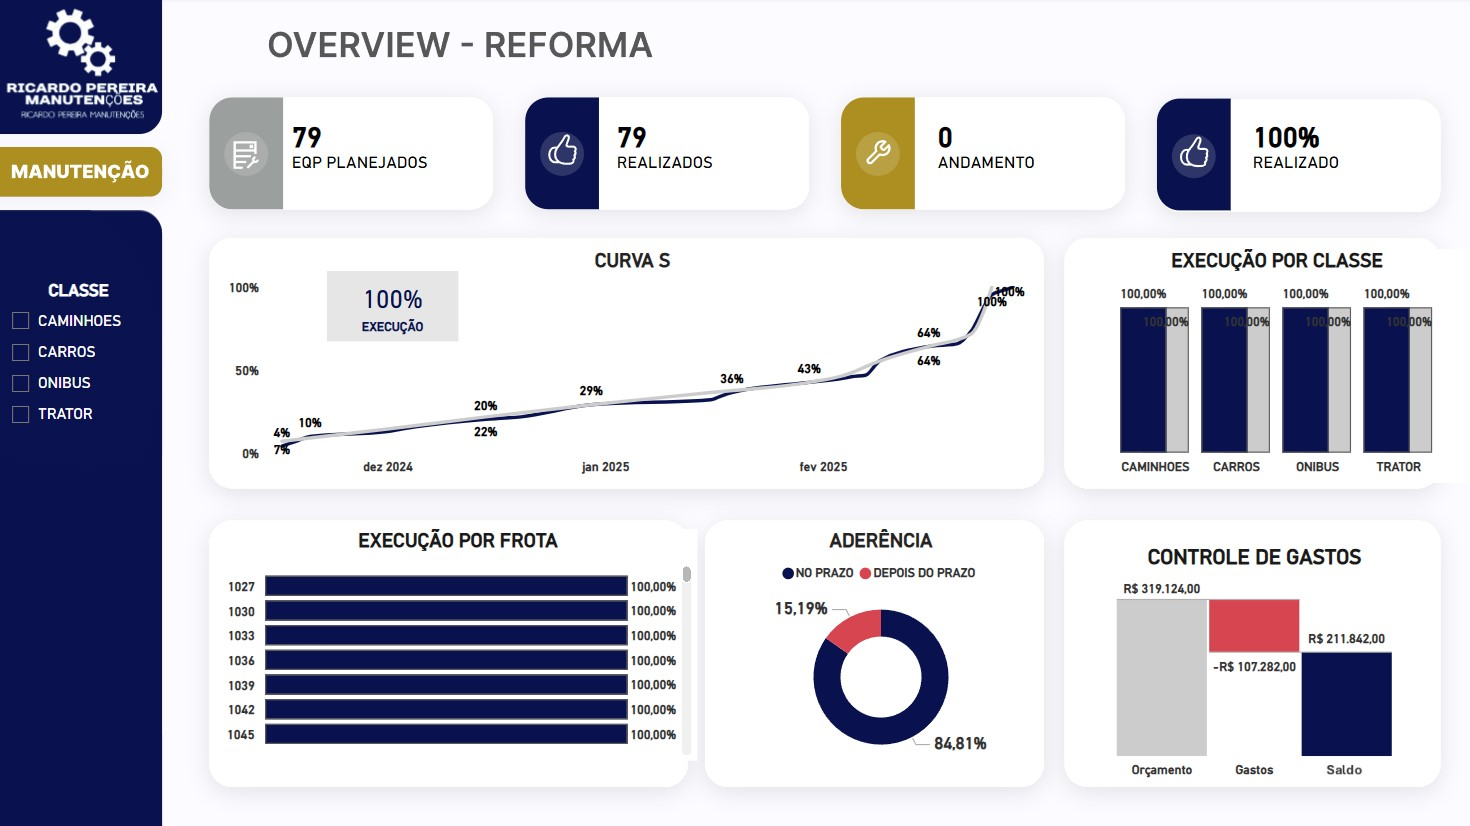

The dashboard page shown, as its layout file describes it:
{"tool":"powerbi","page":{"name":"GERAL - OVERVIEW","canvas":[1280,720],"ordinal":0},"visuals":[{"type":"lineChart","title":"CURVA S ","fields":{"Category":["dCalendario.Data.Variation.Hierarquia de datas.Ano"],"Y":["!Medidas.ACUMULADO_HH_EXECUTADO","!Medidas.ACUMULADO_PESO"]},"box":[195.2,217.7,712.2,203],"z":0},{"type":"multiRowCard","fields":{"Values":["!Medidas.ANDAMENTO"]},"box":[811.1,102.4,171.8,60.7],"z":1000},{"type":"multiRowCard","fields":{"Values":["!Medidas.REALIZADOS"]},"box":[532.6,102.4,171.8,60.7],"z":2000},{"type":"multiRowCard","fields":{"Values":["!Medidas.QTD EQP"]},"box":[250.7,102.4,185.6,69.4],"z":3000},{"type":"multiRowCard","fields":{"Values":["!Medidas.% REALIZADO"]},"box":[1084.3,102.4,170,65.1],"z":4000},{"type":"waterfallChart","title":"CONTROLE DE GASTOS","fields":{"Category":["Tabela_Tipos.Tipo"],"Y":["!Medidas.Valor Dinâmico"]},"box":[934.3,473.6,313.2,209.9],"z":5000},{"type":"image","box":[1129.4,657.5,78.9,26],"z":6000},{"type":"card","fields":{"Values":["!Medidas.ACUMULADO_EXECUTADO_2"]},"box":[286.3,236.8,113.6,60.7],"z":7000},{"type":"donutChart","title":"ADERÊNCIA","fields":{"Y":["!Medidas.% ADERÊNCIA","!Medidas.% DEPOIS DO PRAZO"]},"box":[618.5,460.6,296.7,209.9],"z":8000},{"type":"clusteredBarChart","title":"EXECUÇÃO POR FROTA","fields":{"Category":["fControle.FROTA"],"Y":["fControle.ATUALIZAÇÃO","dData Planejada.PESO POR FROTA"]},"box":[193,461,395,210],"z":9000},{"type":"slicer","title":"CLASSE ","fields":{"Values":["fControle.CLASSE OPERACIONAL"]},"box":[0,245.1,141.4,157.1],"z":10000},{"type":"clusteredColumnChart","title":"EXECUÇÃO POR CLASSE","fields":{"Y":["!Medidas.ACUMULADO_EXECUTADO_2","!Medidas.ACUMULADO_PESO"],"Category":["fControle.CLASSE OPERACIONAL"]},"box":[921,217,339,203],"z":11002}]}

Visuals, with their boxes in screenshot pixels (x1, y1, x2, y2), scaled from the page's 1280x720 canvas onto the 1470x826 screenshot:
"CURVA S " lineChart: (left=224, top=250, right=1042, bottom=483)
multiRowCard - !Medidas.ANDAMENTO: (left=931, top=117, right=1129, bottom=187)
multiRowCard - !Medidas.REALIZADOS: (left=612, top=117, right=809, bottom=187)
multiRowCard - !Medidas.QTD EQP: (left=288, top=117, right=501, bottom=197)
multiRowCard - !Medidas.% REALIZADO: (left=1245, top=117, right=1440, bottom=192)
"CONTROLE DE GASTOS" waterfallChart: (left=1073, top=543, right=1433, bottom=784)
image: (left=1297, top=754, right=1388, bottom=784)
card - !Medidas.ACUMULADO_EXECUTADO_2: (left=329, top=272, right=459, bottom=341)
"ADERÊNCIA" donutChart: (left=710, top=528, right=1051, bottom=769)
"EXECUÇÃO POR FROTA" clusteredBarChart: (left=222, top=529, right=675, bottom=770)
"CLASSE " slicer: (left=0, top=281, right=162, bottom=461)
"EXECUÇÃO POR CLASSE" clusteredColumnChart: (left=1058, top=249, right=1447, bottom=482)
